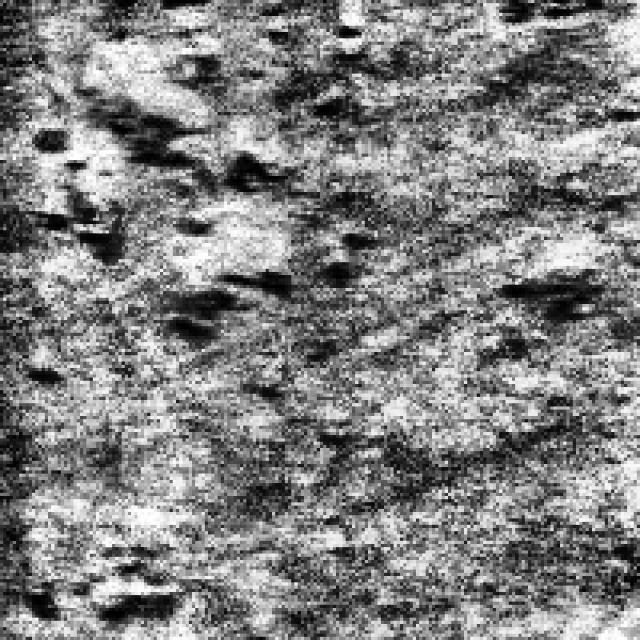Crazing: (29, 64, 349, 342), (26, 538, 186, 636), (486, 250, 634, 332)
